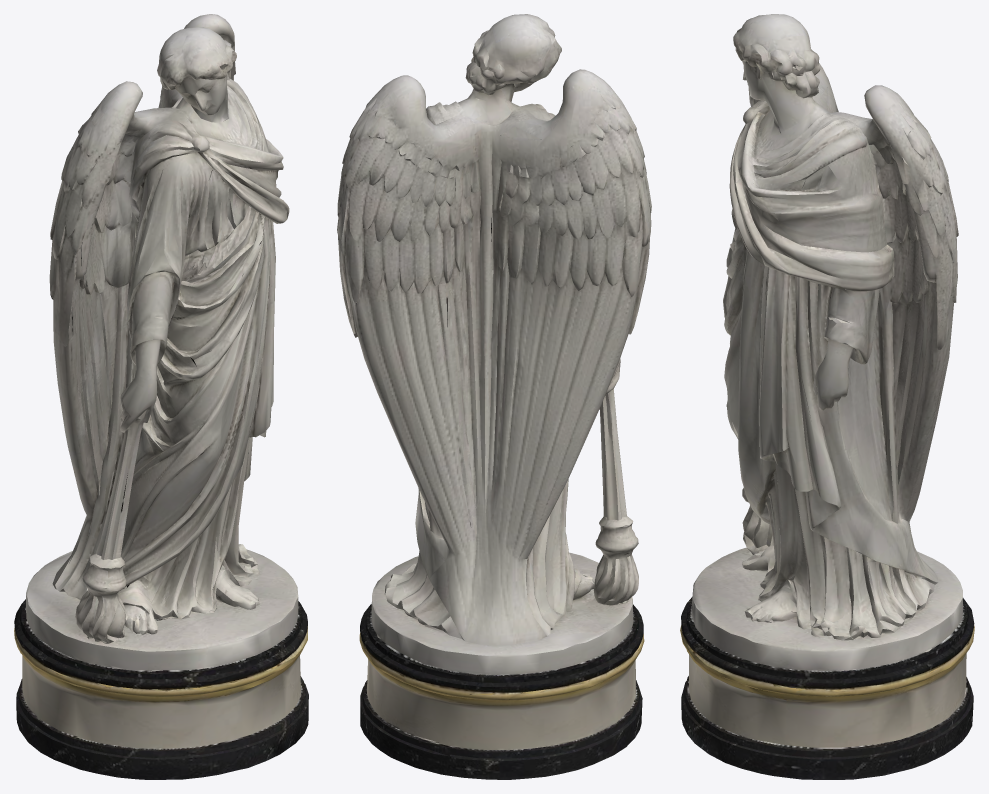
The model's file is P5_thanatos_statue_game.glb.
The picture shows the model from 3 angles, left to right: view 1: azimuth 30°, elevation 25°; view 2: azimuth 150°, elevation 25°; view 3: azimuth 270°, elevation 25°; orthographic projection. The views are drawn at different scales.
Parts seen in each view (by area): view 1: P5_thanatos_statue; view 2: P5_thanatos_statue; view 3: P5_thanatos_statue.
Boxes of the visible parts, x1=… form: P5_thanatos_statue: x1=14, y1=14, x2=308, y2=779; P5_thanatos_statue: x1=337, y1=14, x2=651, y2=779; P5_thanatos_statue: x1=680, y1=14, x2=974, y2=779.
Size of the model in its own units: 0.9536 by 2.5 by 0.9447.
Materials: 1 (1 with a texture image).
